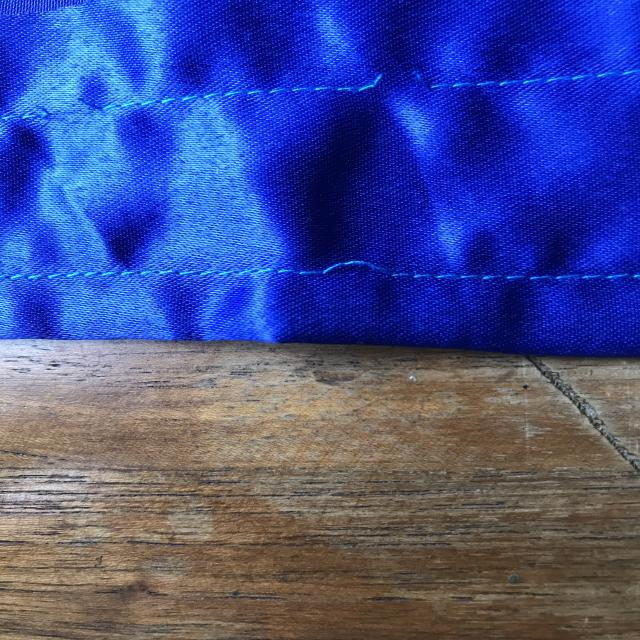broken: (314, 56, 480, 120)
skip: (294, 240, 408, 300)
